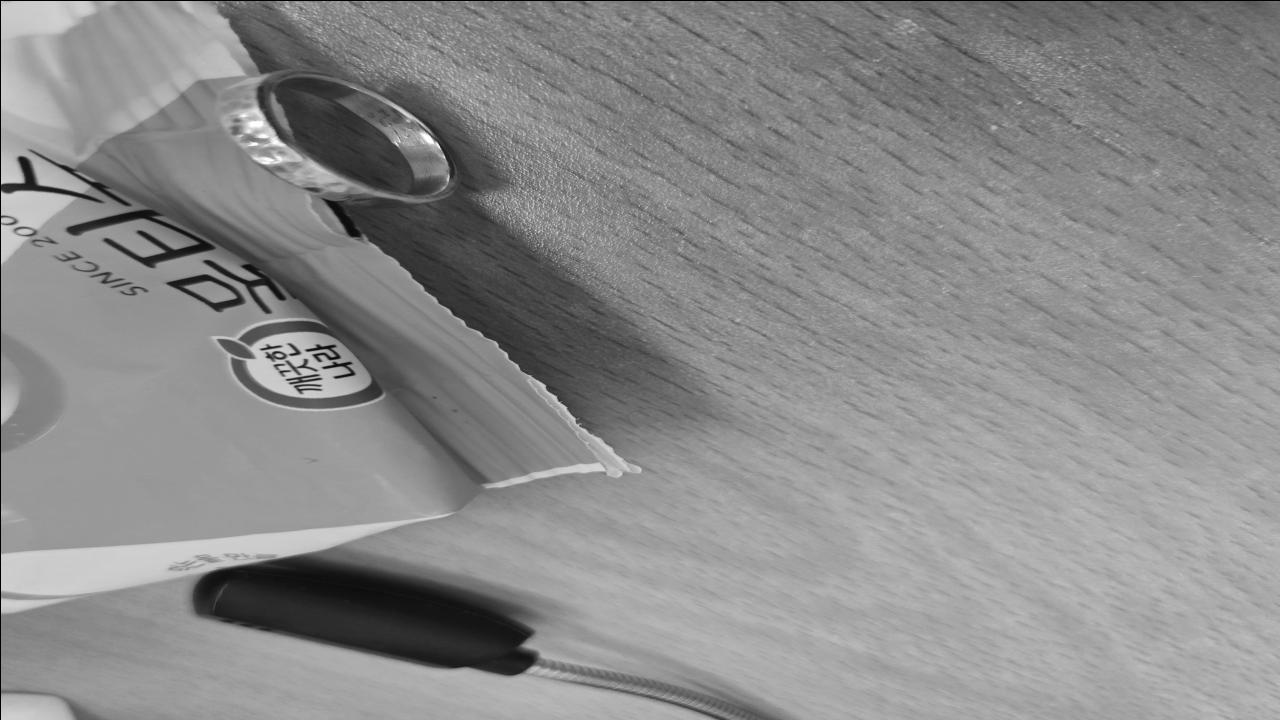ring: (216, 70, 461, 206)
